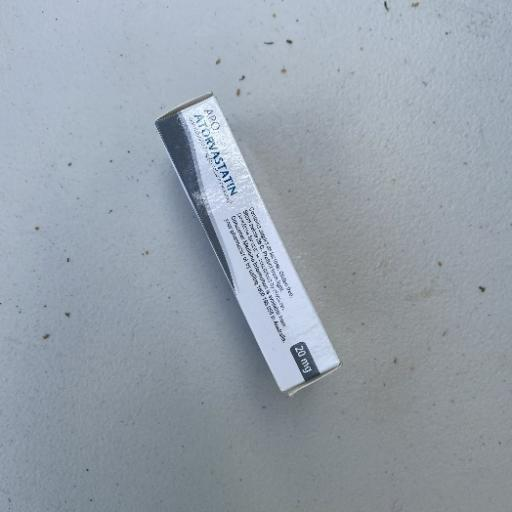Cardboard: (152, 91, 343, 399)
